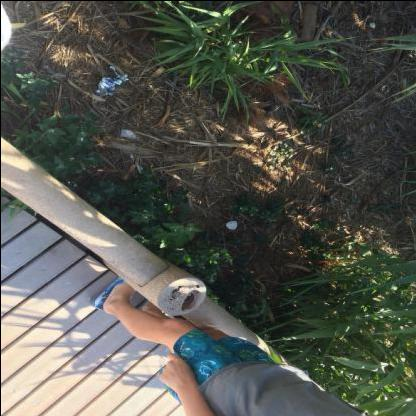Plastic bag - wrapper: (96, 65, 127, 96), (120, 128, 136, 138)
Unlabeled litter: (225, 220, 237, 230)
